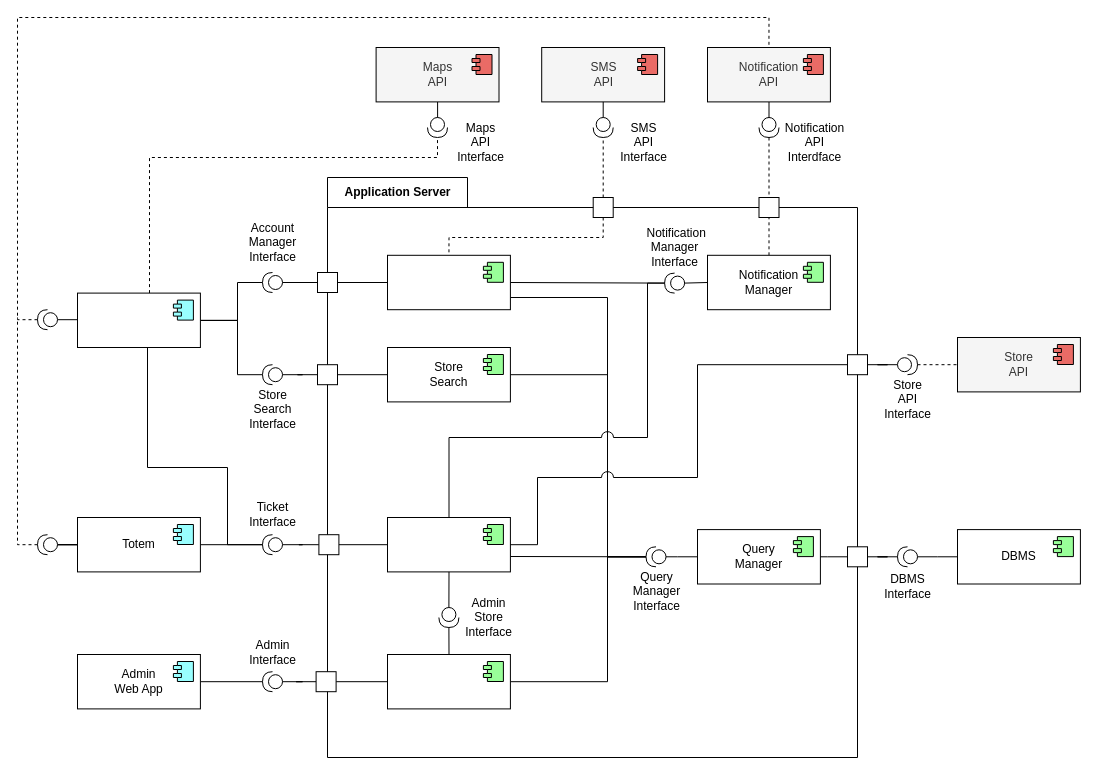
The diagram is 1098 pixels wide and 775 high, and some of its shapes have lost their labels. The centre of each missing label's shape, as x and y in pixels:
"Account Manager" goes at pixel 448 282.
"Admin Services" goes at pixel 448 681.
"Store Handler" goes at pixel 448 544.
"Web and Mobile App" goes at pixel 138 320.
